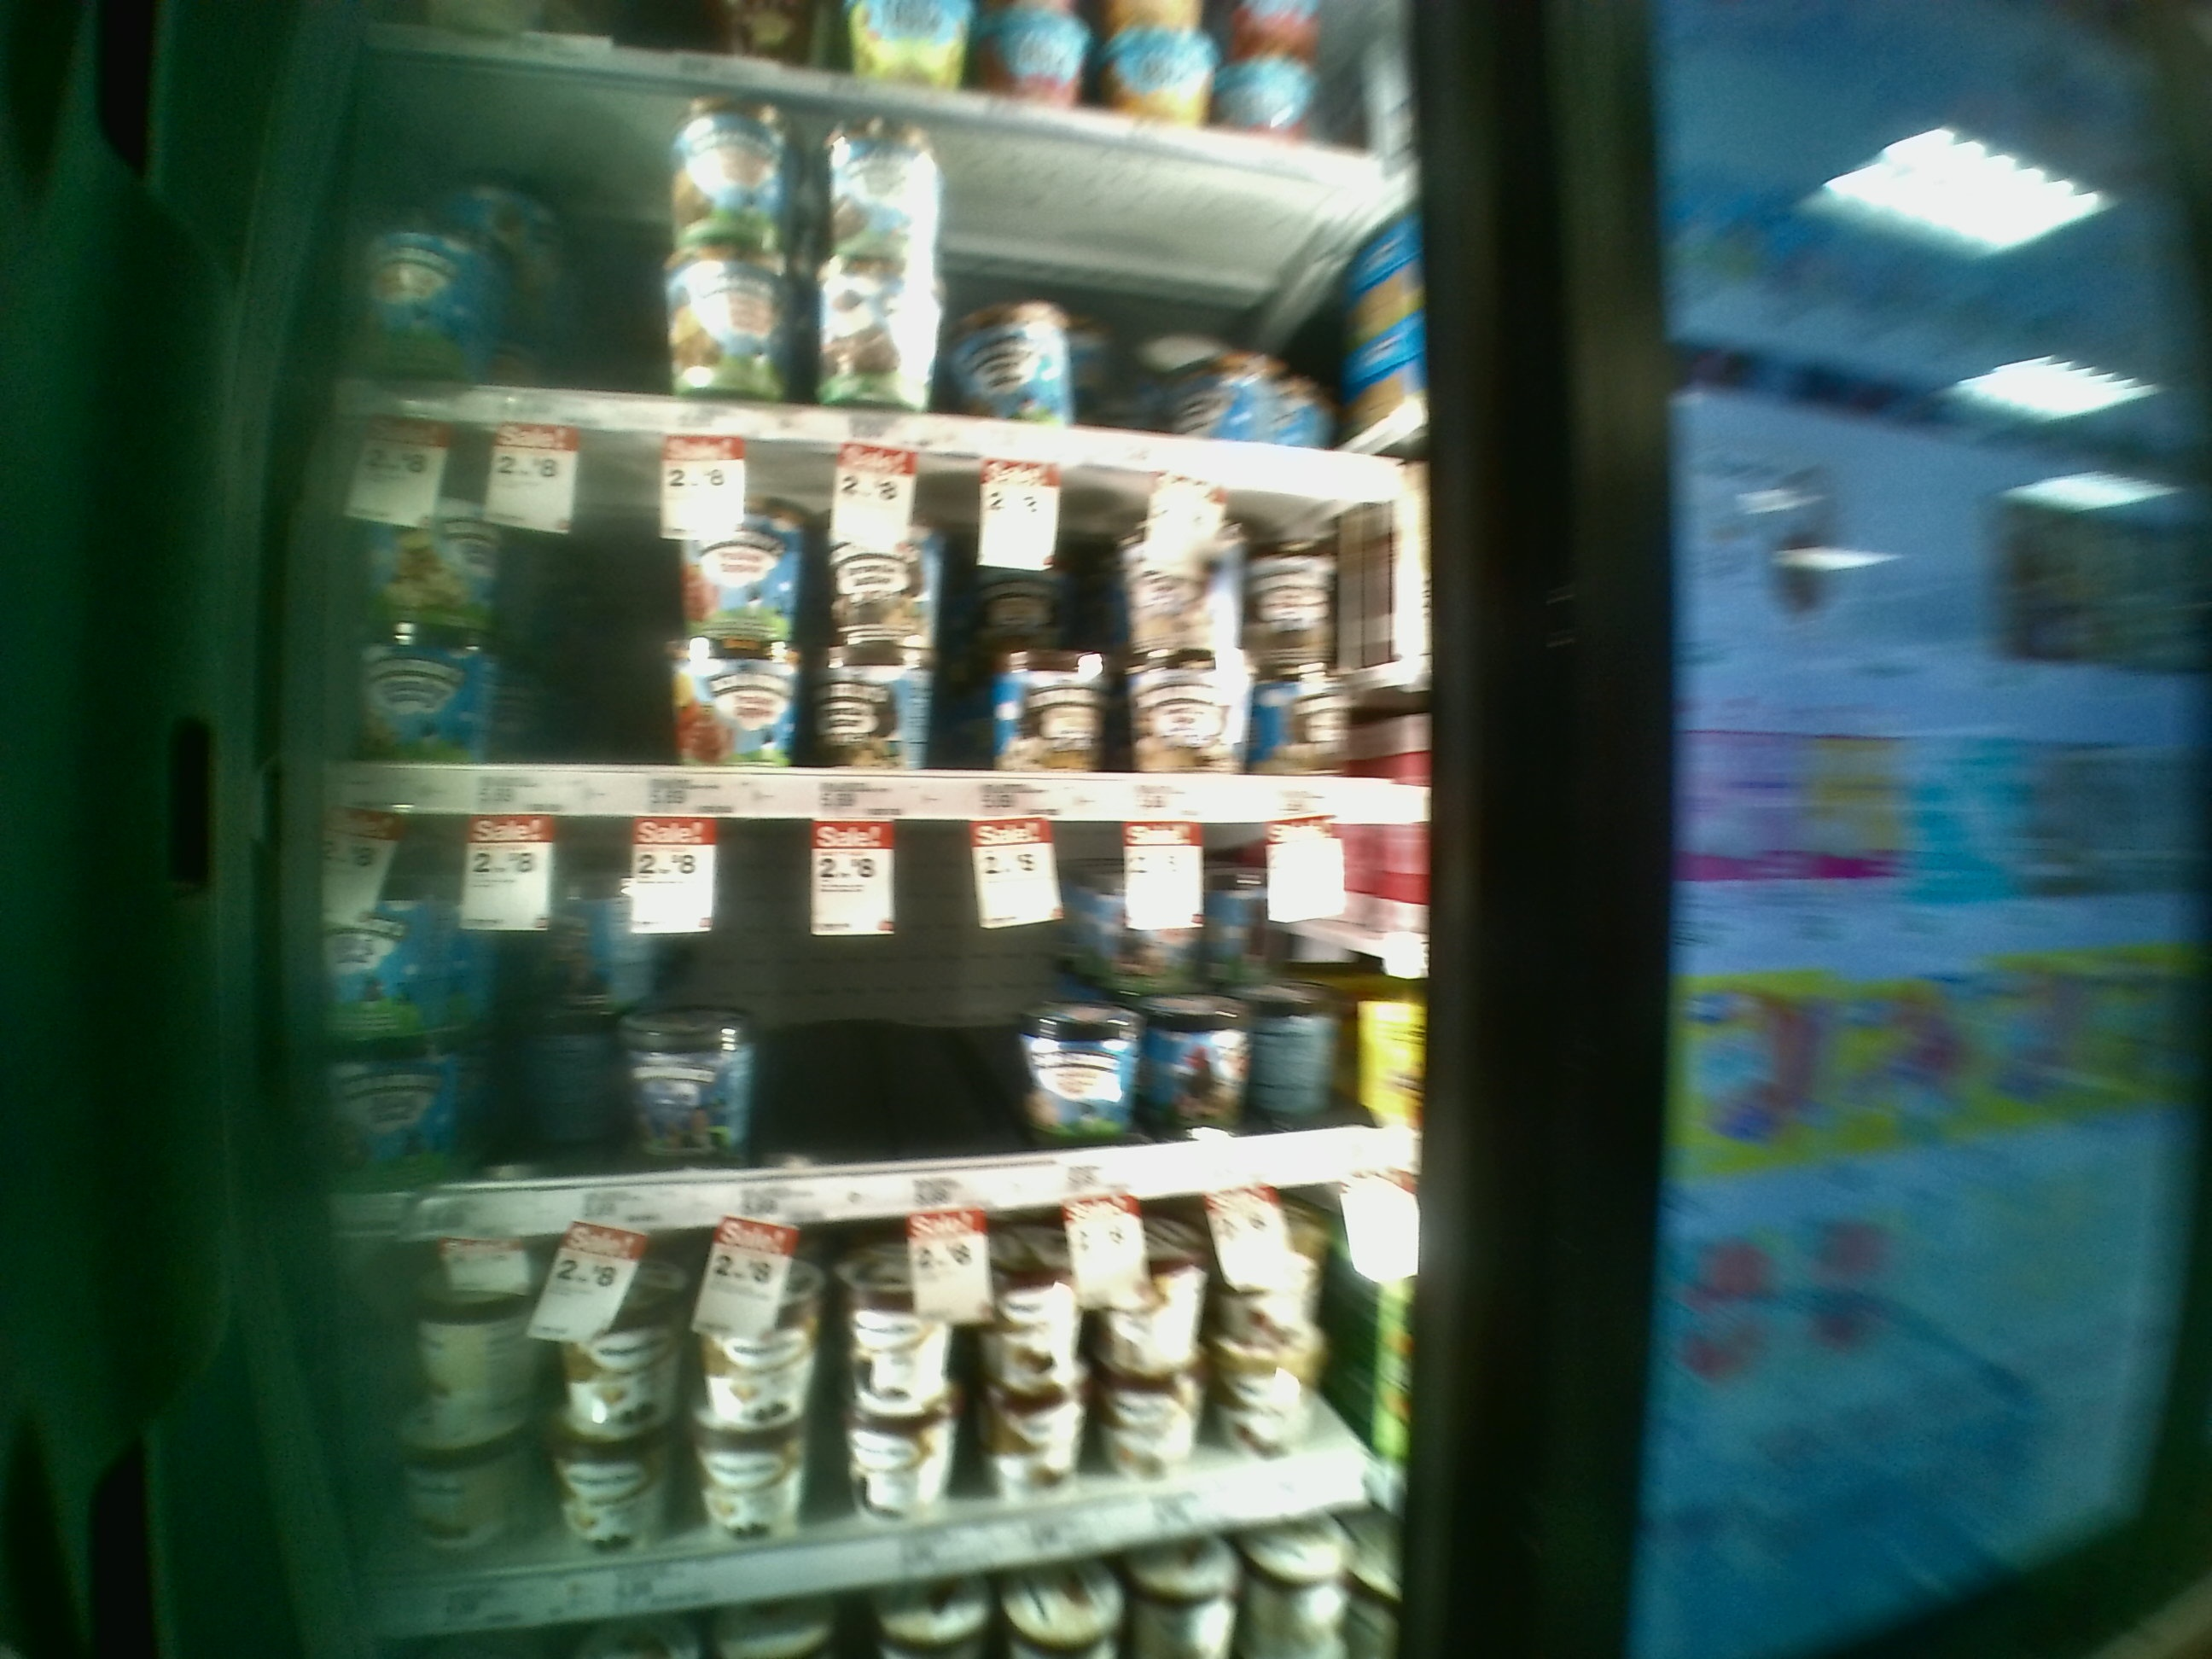shelf: (326, 410, 1425, 824), (329, 828, 1440, 1230)
